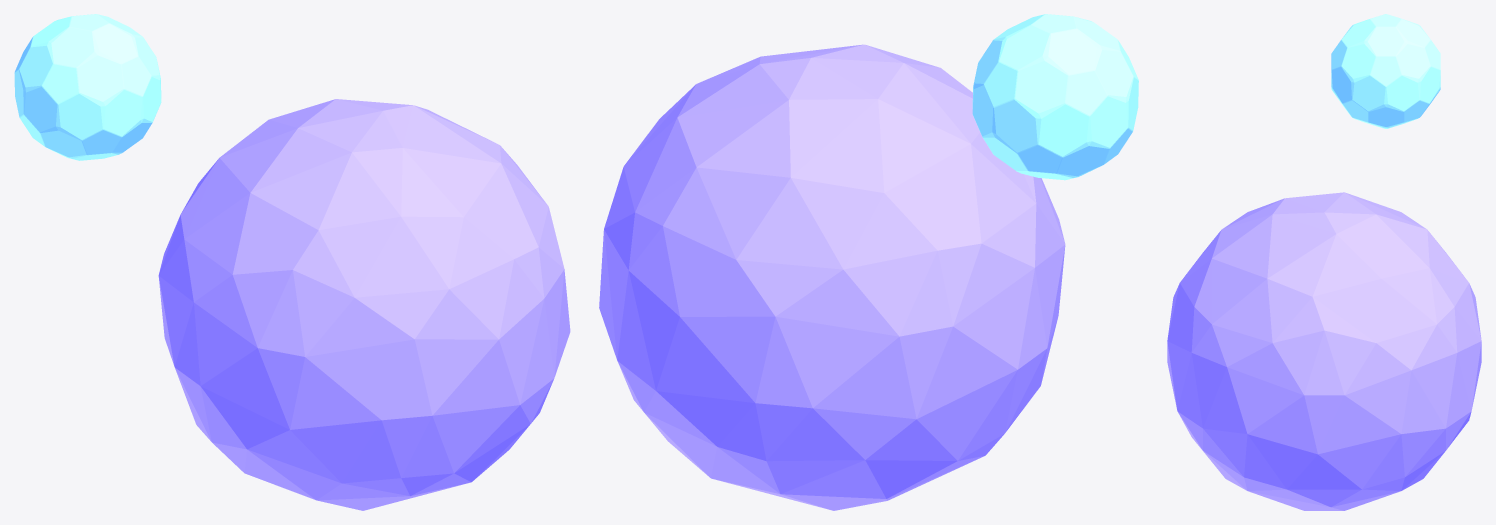
Rendered from Models.FBX.
3 views of the same model, side by side, from view 1: azimuth 30°, elevation 25°; view 2: azimuth 150°, elevation 25°; view 3: azimuth 270°, elevation 25° (orthographic). The views are drawn at different scales.
Visible parts, largest first — view 1: GeoSphere001; view 2: GeoSphere001; view 3: GeoSphere001.
Part boxes in pixels (x1=…): GeoSphere001: x1=14, y1=14, x2=570, y2=510; GeoSphere001: x1=599, y1=14, x2=1138, y2=510; GeoSphere001: x1=1167, y1=14, x2=1481, y2=510.
Size of the model in its own units: 139 by 139 by 102.
